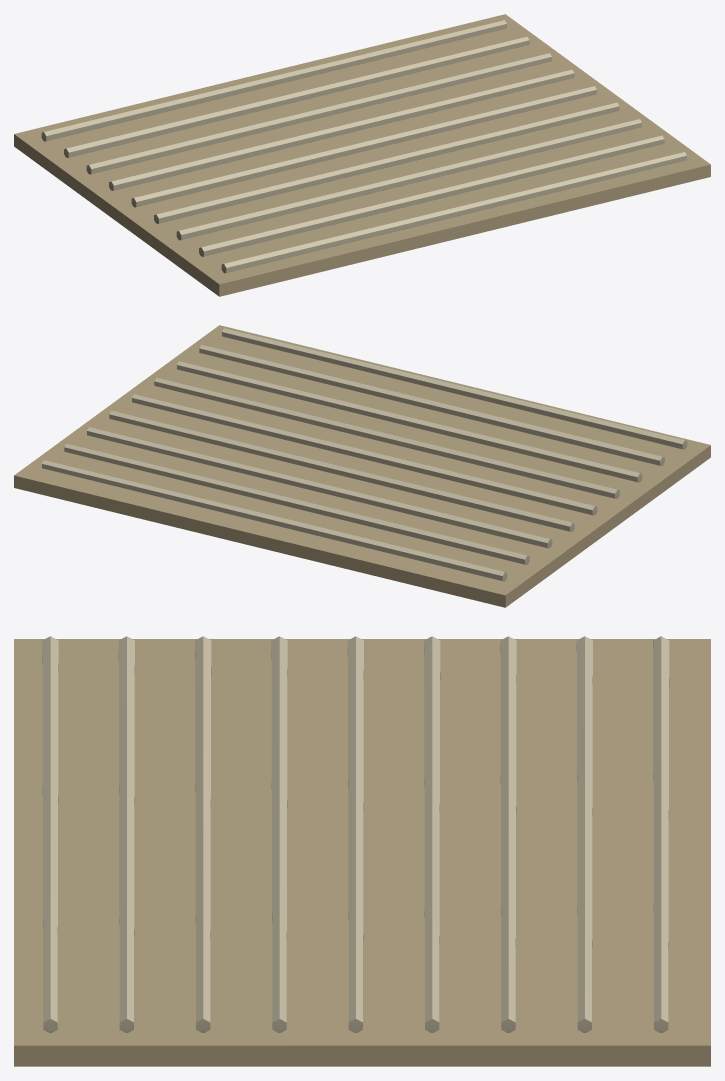
The model's file is landing_mat.glb.
3 views of the same model, one above another, from view 1: azimuth 30°, elevation 25°; view 2: azimuth 150°, elevation 25°; view 3: azimuth 270°, elevation 25° (orthographic). The views are drawn at different scales.
Visible parts, largest first — view 1: landing_mat; view 2: landing_mat; view 3: landing_mat.
Boxes of the visible parts, x1=… form: landing_mat: x1=14, y1=14, x2=710, y2=296; landing_mat: x1=14, y1=325, x2=710, y2=607; landing_mat: x1=14, y1=636, x2=710, y2=1066.
Bounding box in the file's own units: 1.45 × 0.0605 × 1.05.
